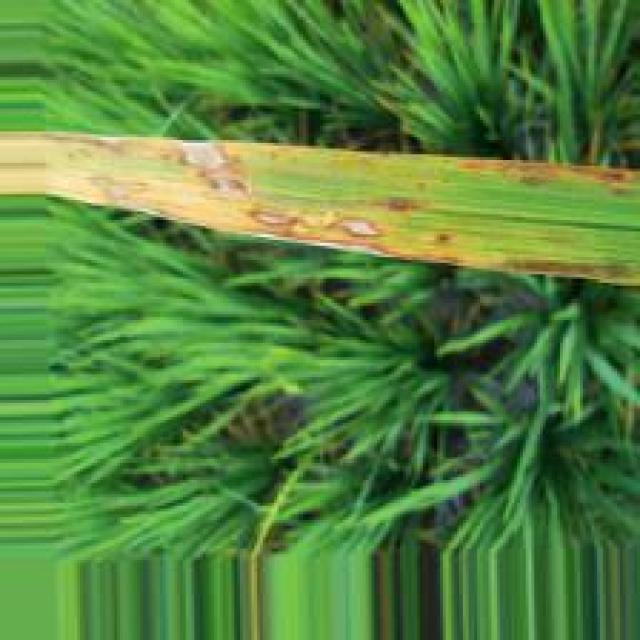Bacterial_Leaf_Blight: (86, 175, 471, 264), (28, 129, 255, 200), (224, 143, 445, 189), (455, 160, 635, 200), (480, 255, 635, 282), (357, 194, 412, 218), (436, 234, 452, 246)
